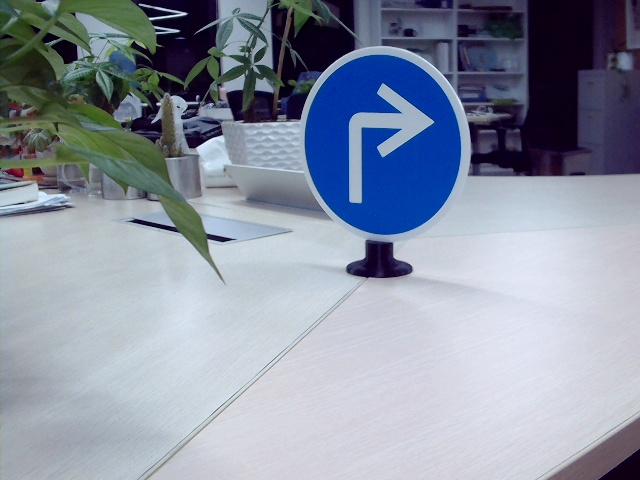turn_right: (338, 81, 431, 212)
